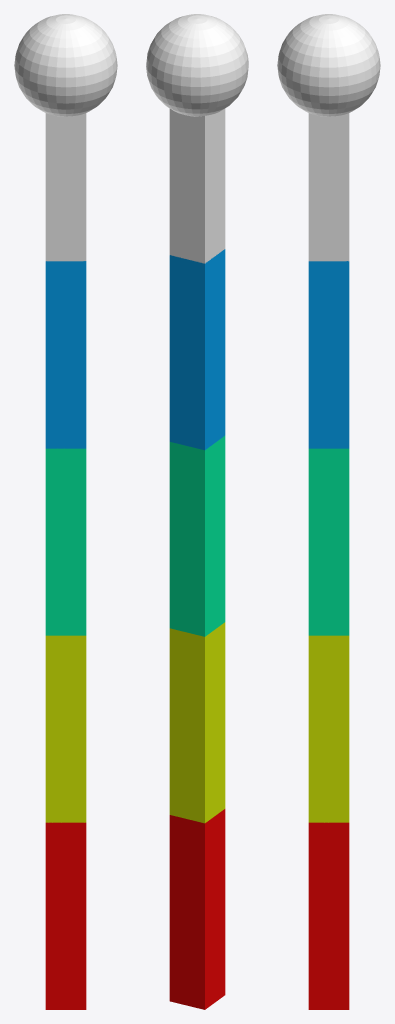
The model's file is CCDIKTest.glb.
The picture shows the model from 3 angles, left to right: view 1: azimuth 90°, elevation 25°; view 2: azimuth 150°, elevation 25°; view 3: azimuth 270°, elevation 25°; orthographic projection.
Parts seen in each view (by area): view 1: Target, Link.003, Link.002, Link.001, Link.000, Link.004; view 2: Link.003, Link.001, Link.002, Link.000, Target, Link.004; view 3: Target, Link.003, Link.002, Link.001, Link.000, Link.004.
Boxes of the visible parts, <box> form: Target: <box>14,14,117,116</box>; Link.003: <box>45,261,86,448</box>; Link.002: <box>45,448,86,635</box>; Link.001: <box>45,635,86,822</box>; Link.000: <box>45,822,86,1009</box>; Link.004: <box>45,113,86,261</box>; Link.003: <box>169,249,225,450</box>; Link.001: <box>169,622,225,823</box>; Link.002: <box>169,435,225,636</box>; Link.000: <box>169,809,225,1009</box>; Target: <box>146,14,248,116</box>; Link.004: <box>169,108,225,263</box>; Target: <box>277,14,380,116</box>; Link.003: <box>308,261,349,448</box>; Link.002: <box>308,448,349,635</box>; Link.001: <box>308,635,349,822</box>; Link.000: <box>308,822,349,1009</box>; Link.004: <box>308,113,349,261</box>.
Bounding box in the file's own units: 0.5 × 5.25 × 0.5.
